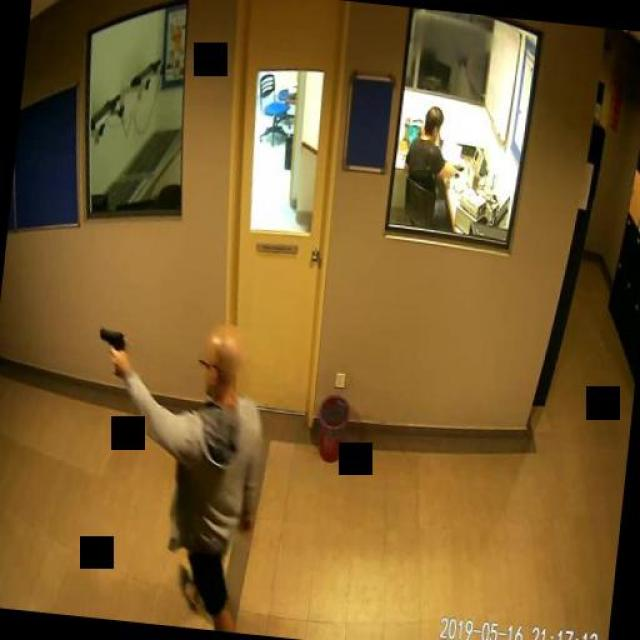gun: (95, 326, 127, 376)
